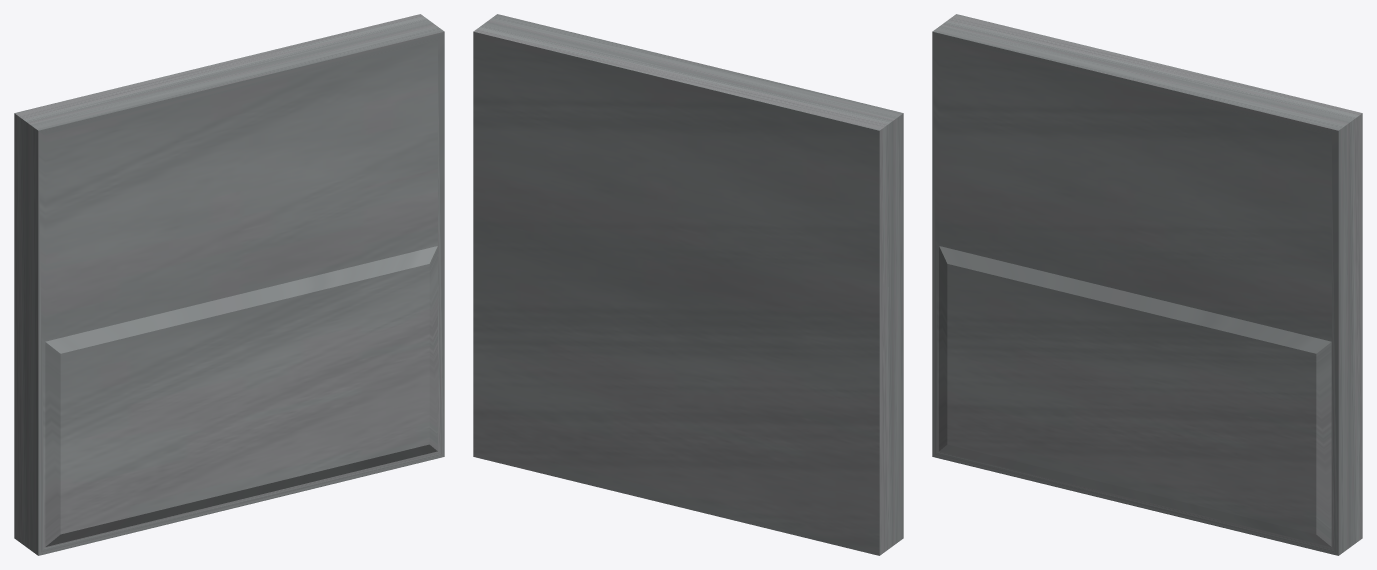
File: WallAsset2.FBX
3 renders of one model, left to right at view 1: azimuth 30°, elevation 25°; view 2: azimuth 150°, elevation 25°; view 3: azimuth 330°, elevation 25°, orthographic.
Visible parts, largest first — view 1: Box002; view 2: Box002; view 3: Box002.
Part boxes in pixels (left/top/right/bottom): Box002: left=14, top=14, right=444, bottom=555; Box002: left=473, top=14, right=903, bottom=555; Box002: left=932, top=14, right=1362, bottom=555.
Size of the model in its own units: 464 by 464 by 54.75.
Materials: 1 (1 with a texture image).
